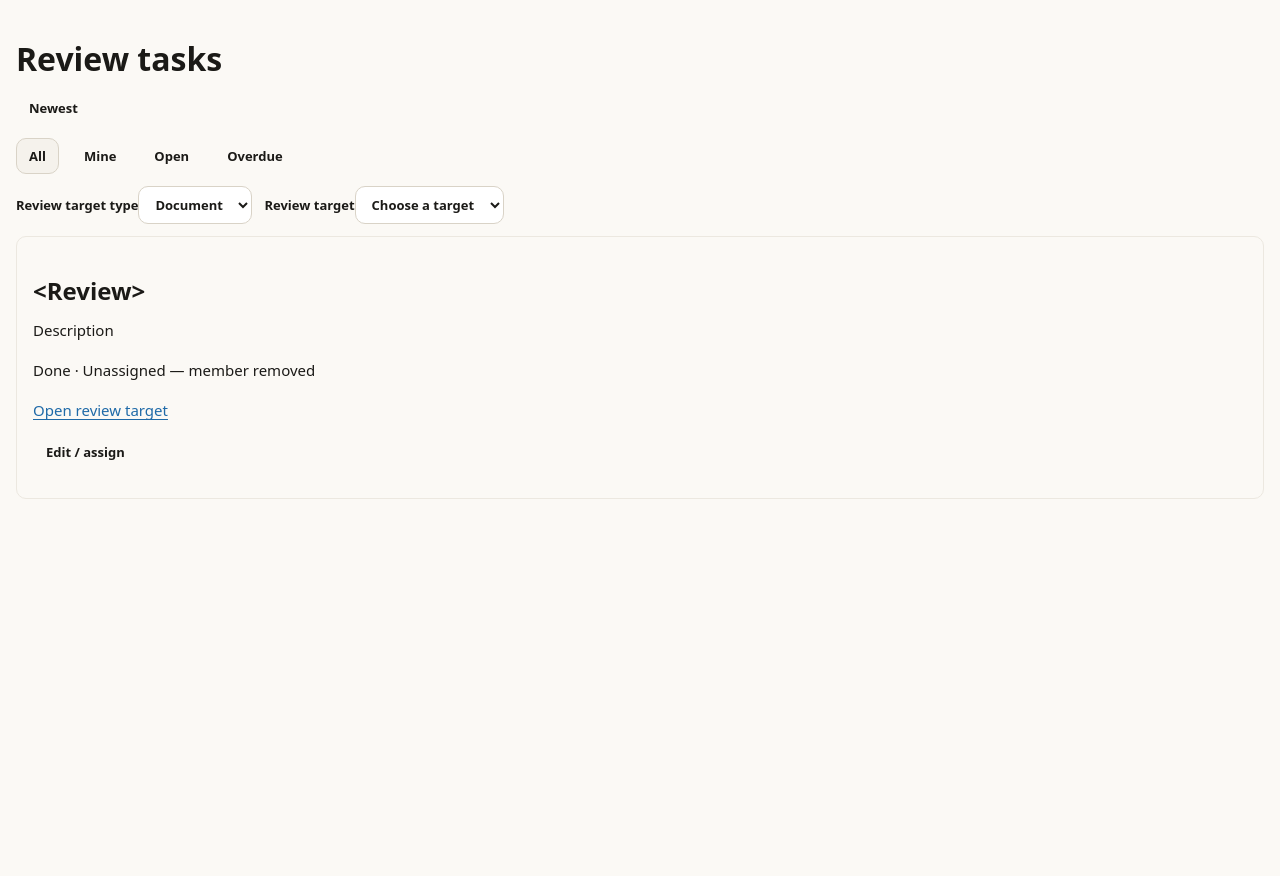
opens and closes inline assignment editing, shows removed assignee and terminal tasks
Expected: the text "Done · Unassigned — member removed" is shown, [33,360,315,380]
Click the button "Edit / assign" at (85, 452), box [33,434,138,470]
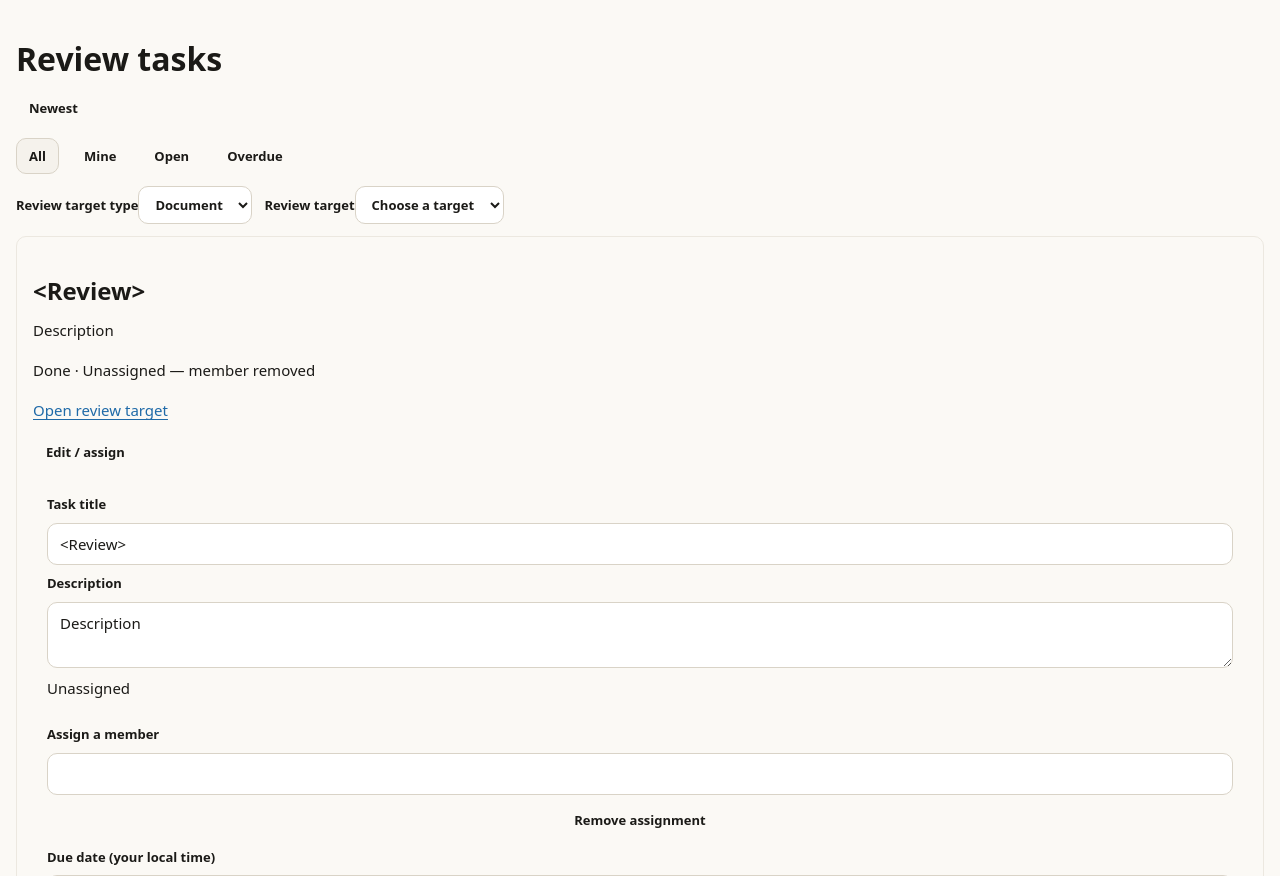
Now the field labelled "Task title" is shown, box [47,523,1233,565]
Click the button "Edit / assign" at (85, 452), box [33,434,138,470]
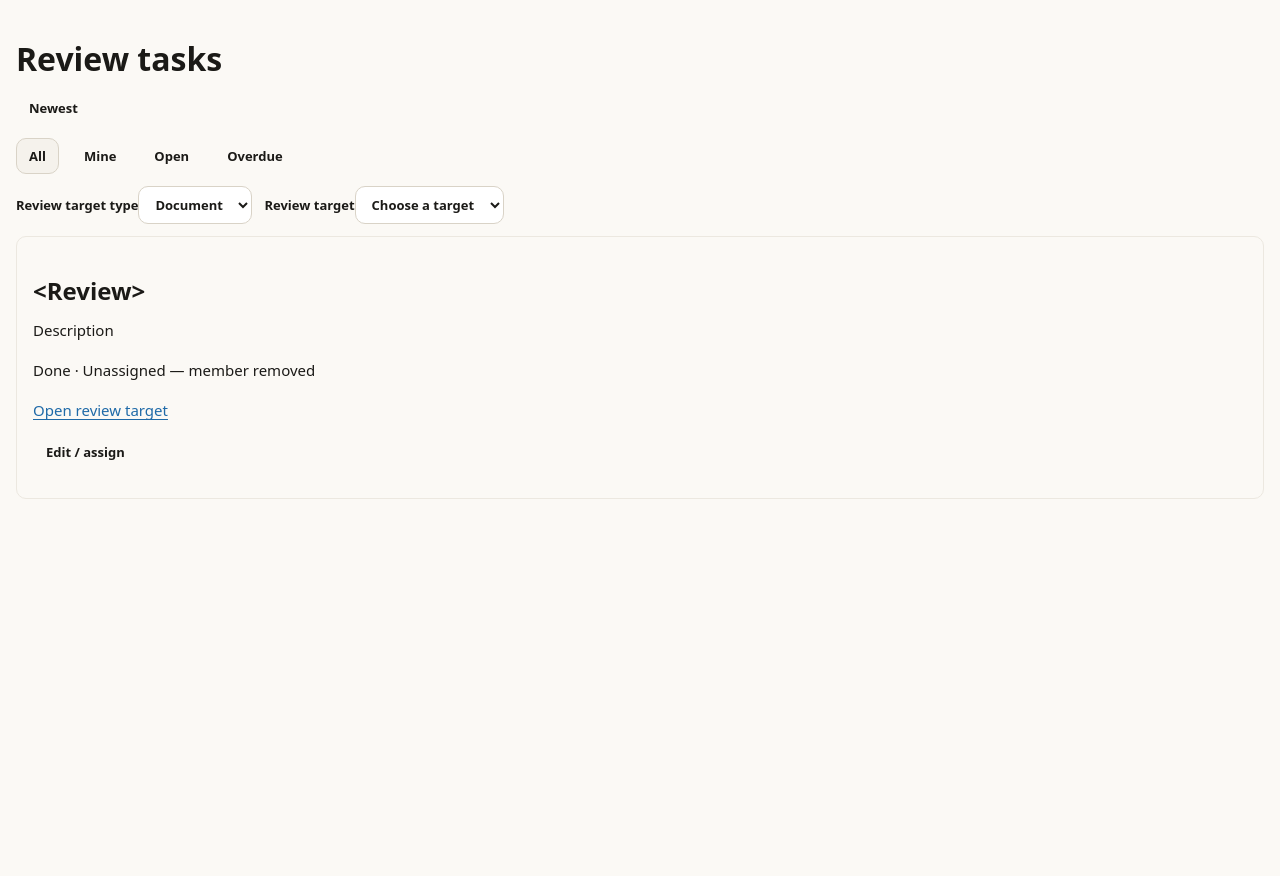
Now the label labelled "Task title" is gone
